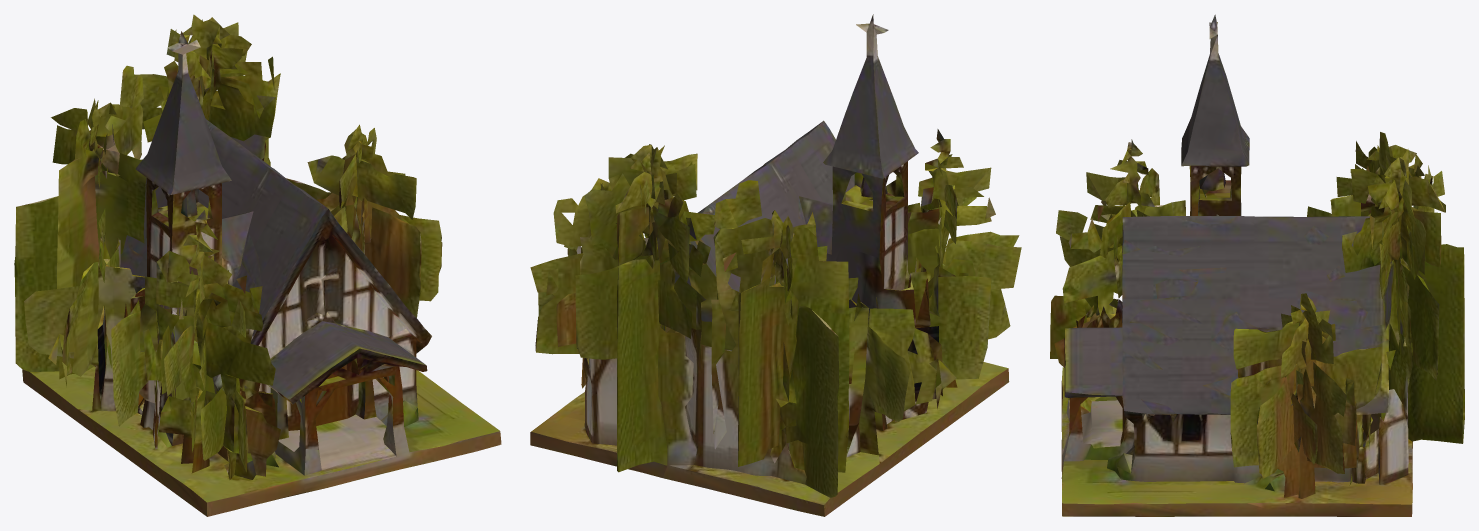
File: karuizawa-st-paul.glb
3 renders of one model, left to right at view 1: azimuth 30°, elevation 25°; view 2: azimuth 150°, elevation 25°; view 3: azimuth 270°, elevation 25°, orthographic. The views are drawn at different scales.
Visible parts, largest first — view 1: logan-textured.obj; view 2: logan-textured.obj; view 3: logan-textured.obj.
Boxes of the visible parts, x1,y1,x2,y2 form: logan-textured.obj: [14, 14, 501, 516]; logan-textured.obj: [530, 14, 1021, 516]; logan-textured.obj: [1050, 14, 1464, 516].
Size of the model in its own units: 0.9912 by 1 by 0.9573.
Materials: 1 (1 with a texture image).
